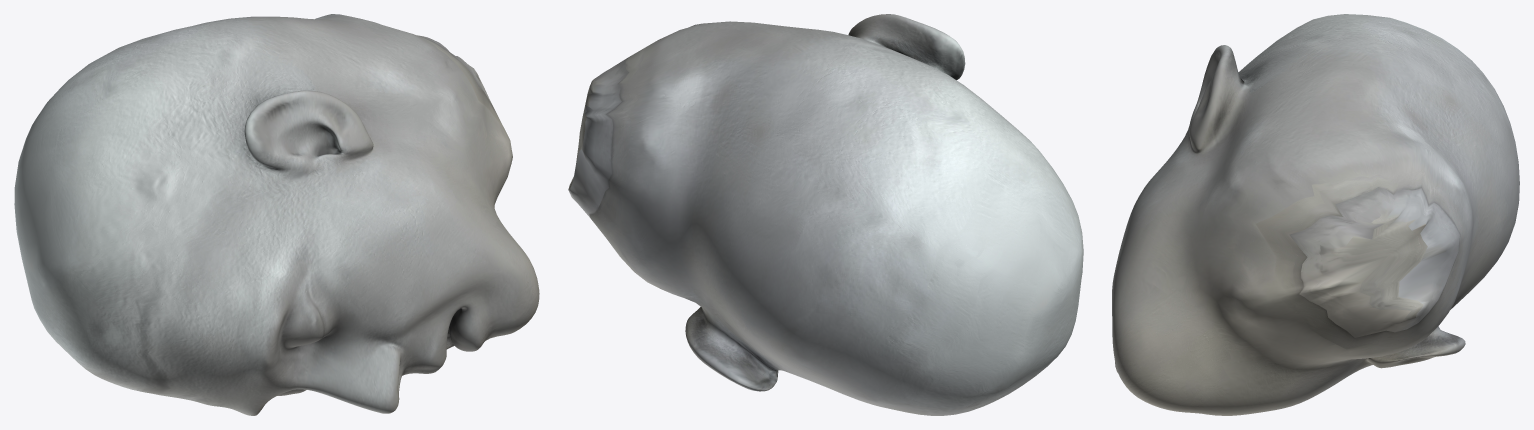
File: pimedamehepea.glb
The picture shows the model from 3 angles, left to right: view 1: azimuth 30°, elevation 25°; view 2: azimuth 150°, elevation 25°; view 3: azimuth 270°, elevation 25°; orthographic projection. The views are drawn at different scales.
Visible parts, largest first — view 1: model; view 2: model; view 3: model.
Part boxes in pixels (x1,y1,x2,y2): model: [14, 14, 539, 415]; model: [568, 14, 1083, 415]; model: [1112, 14, 1519, 415].
Size of the model in its own units: 0.8395 by 0.6063 by 0.6581.
1 material, 1 textured.
